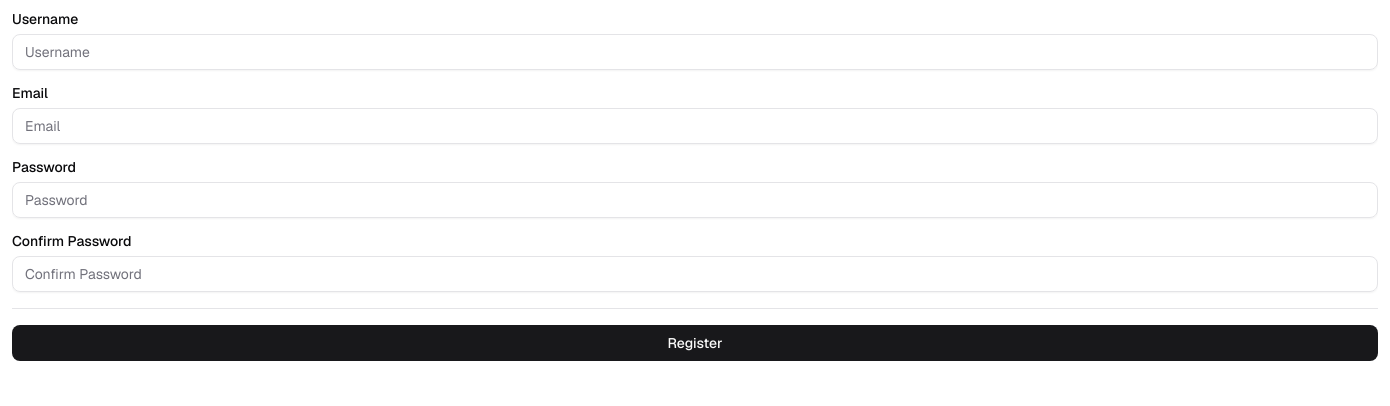
RegisterForm - Integration Tests › handles email validation
Type "testuser" into the field with placeholder "Username" at x=695, y=52, box 12,34 -> 1378,70
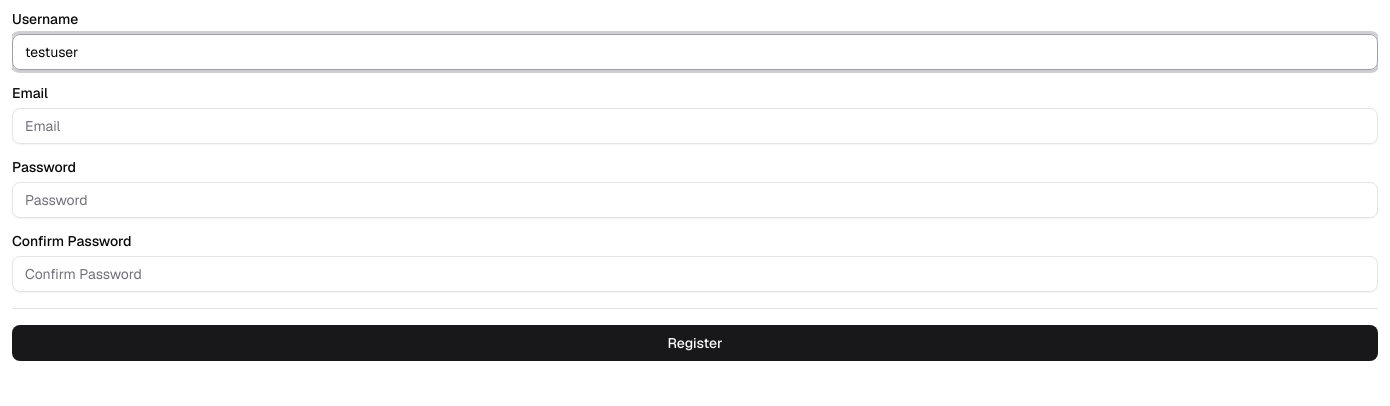
Type "invalid-email" into the field with placeholder "Email" at x=695, y=126, box 12,108 -> 1378,144
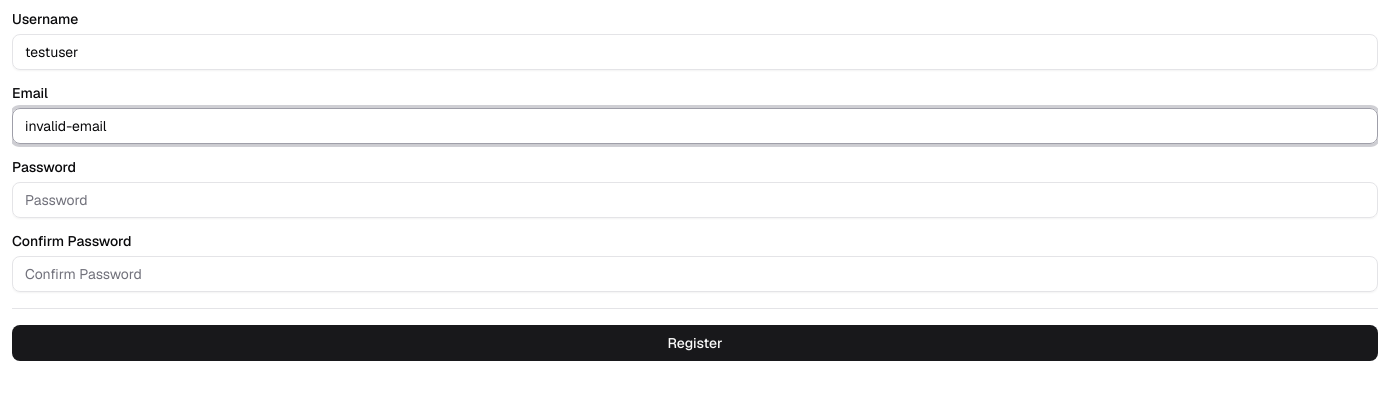
Type "password123" into the password field with placeholder "Password" at x=695, y=200, box 12,182 -> 1378,218
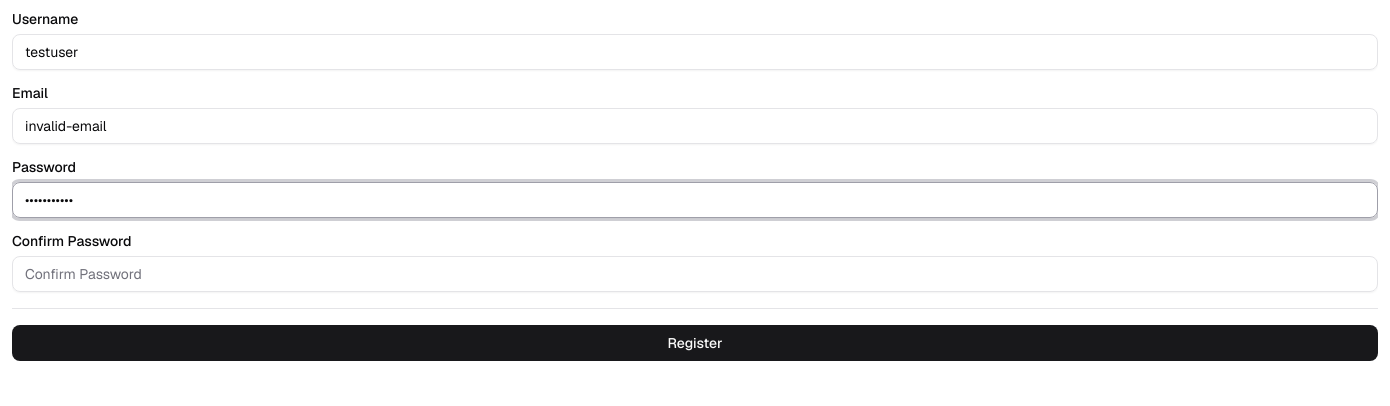
Type "password123" into the password field with placeholder "Confirm Password" at x=695, y=274, box 12,256 -> 1378,292
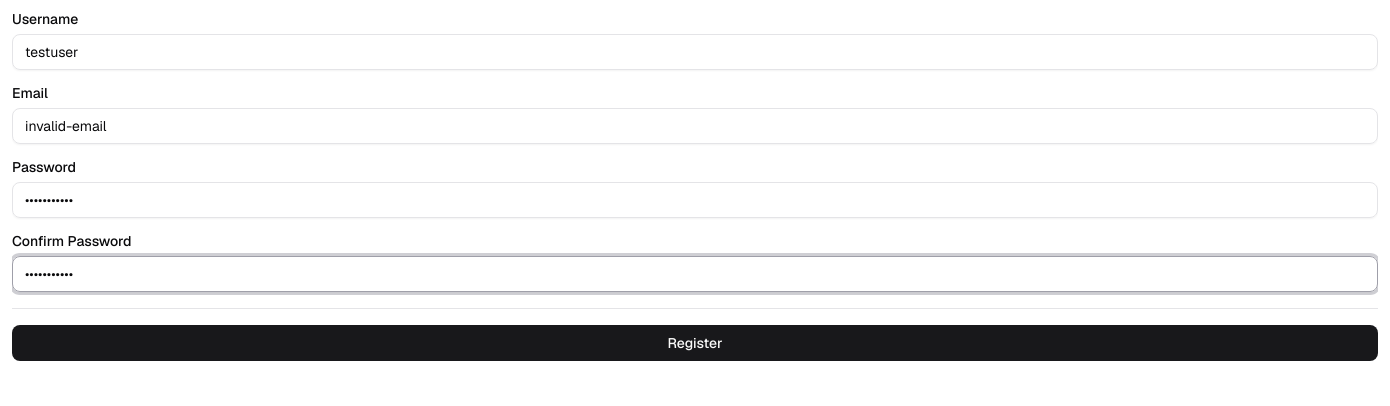
Click the button "Register" at x=695, y=343, box 12,325 -> 1378,361
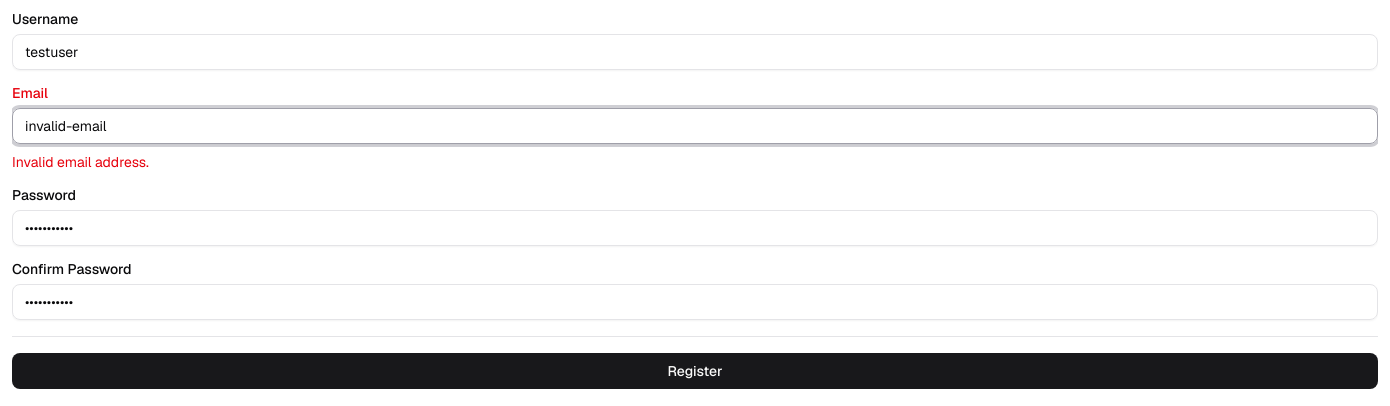
Now the text "Invalid email address." is shown, box 12,153 -> 149,171
